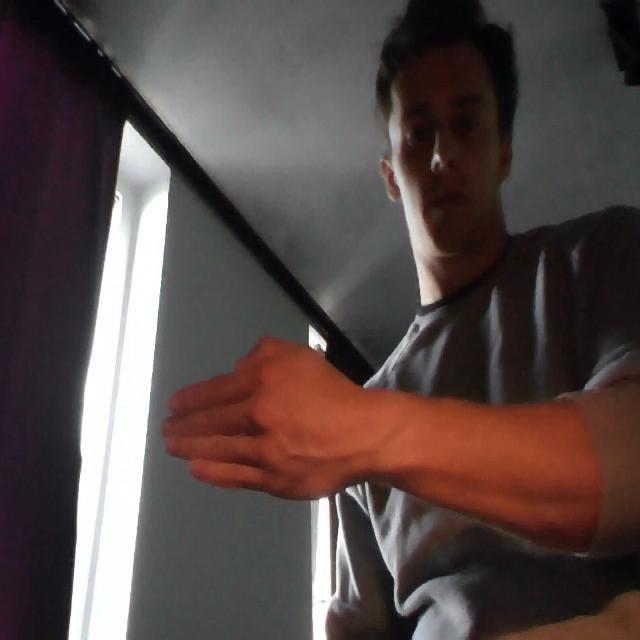left: (151, 320, 376, 511)
